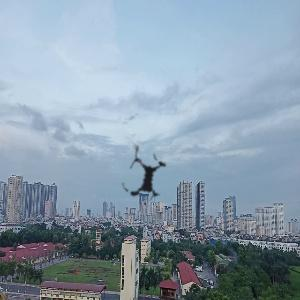drone: (99, 131, 191, 223)
